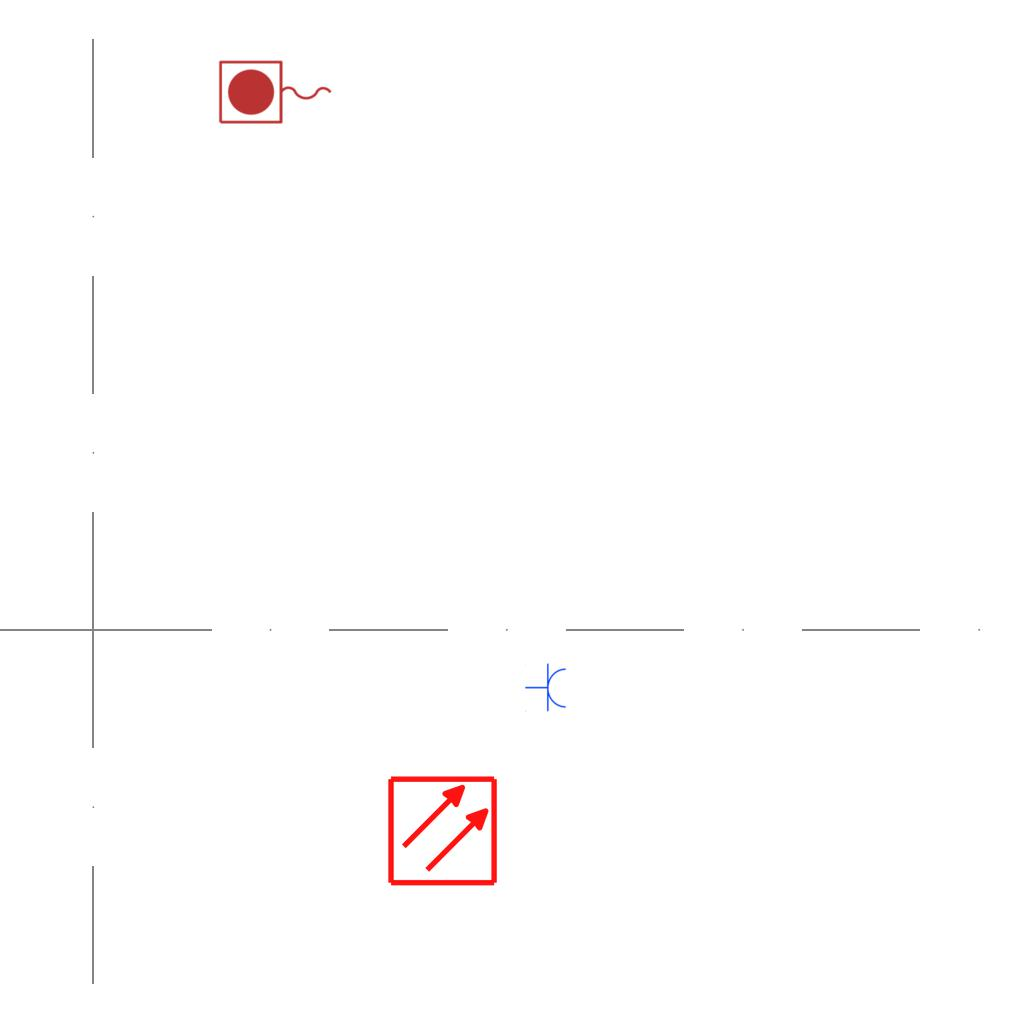RMO_Rauchmelder_optischer: (386, 774, 499, 887)
Schukosteckdose_einfach: (525, 663, 568, 713)
Zugtaster: (215, 57, 337, 129)
